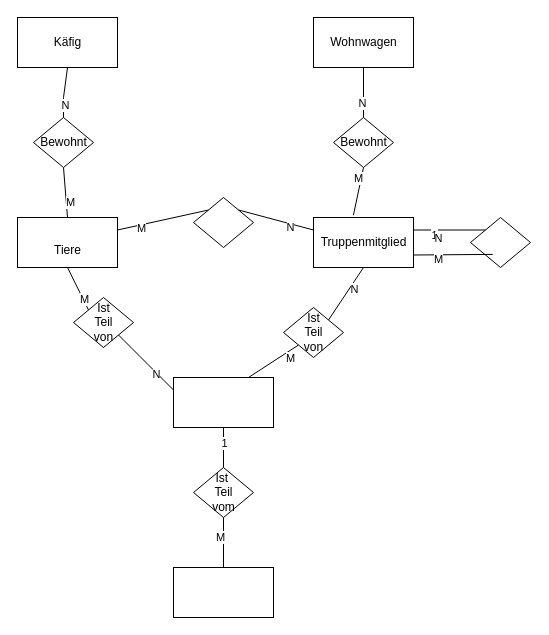
Some shapes in this 549 by 635 pixel diagram are drawn without their labels. Each missing label, with the box of its shape:
Nummern: (172, 376, 274, 428)
Pflegt: (192, 196, 254, 248)
Programm: (172, 566, 274, 618)
Unterrichtet: (470, 216, 530, 268)
